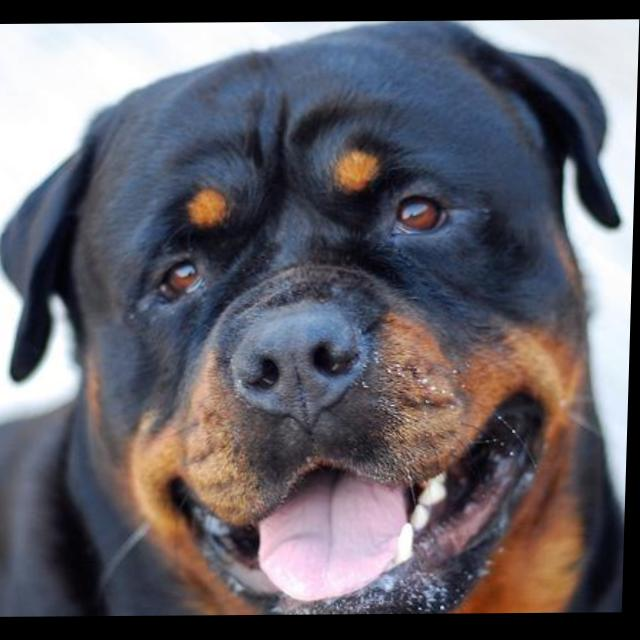rottweiler: (1, 21, 640, 618)
